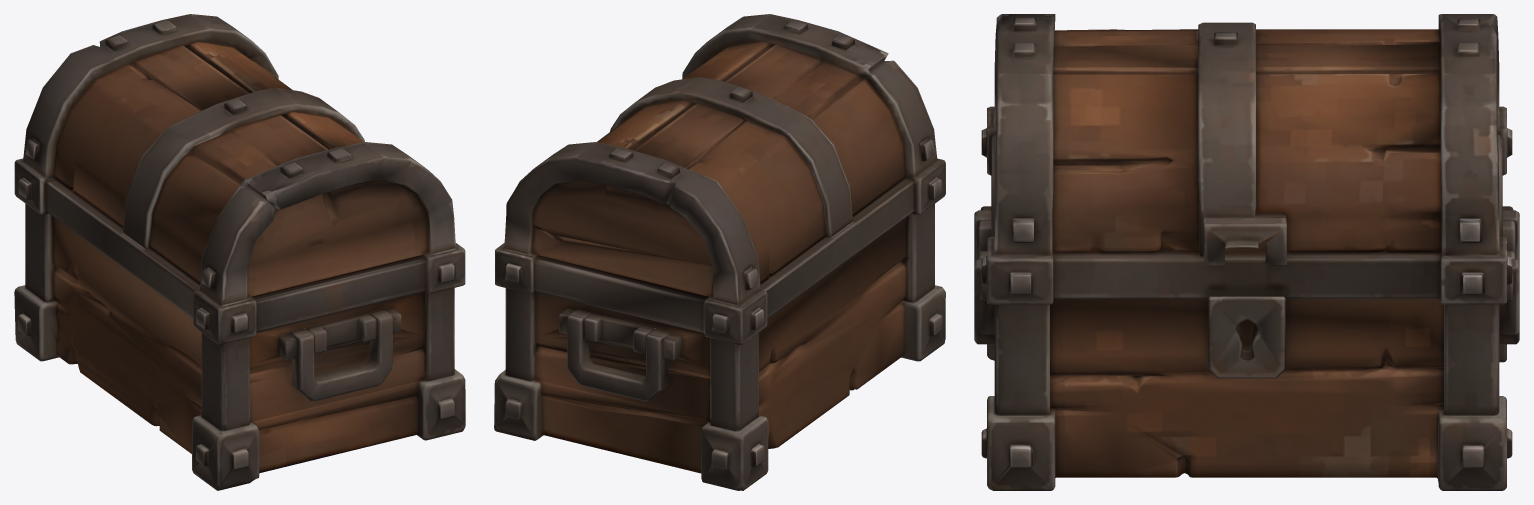
The model's file is chest.glb.
3 views of the same model, side by side, from view 1: azimuth 30°, elevation 25°; view 2: azimuth 150°, elevation 25°; view 3: azimuth 270°, elevation 25° (orthographic). The views are drawn at different scales.
Parts seen in each view (by area): view 1: tripo_node_803af1aa-d1ed-4baa-ae6f-b99c22151b57; view 2: tripo_node_803af1aa-d1ed-4baa-ae6f-b99c22151b57; view 3: tripo_node_803af1aa-d1ed-4baa-ae6f-b99c22151b57.
Part boxes in pixels (x1,y1,x2,y2): tripo_node_803af1aa-d1ed-4baa-ae6f-b99c22151b57: [14, 14, 465, 490]; tripo_node_803af1aa-d1ed-4baa-ae6f-b99c22151b57: [494, 14, 945, 490]; tripo_node_803af1aa-d1ed-4baa-ae6f-b99c22151b57: [974, 14, 1519, 490].
Bounding box in the file's own units: 0.7025 × 0.7613 × 1.
1 material, 1 textured.
